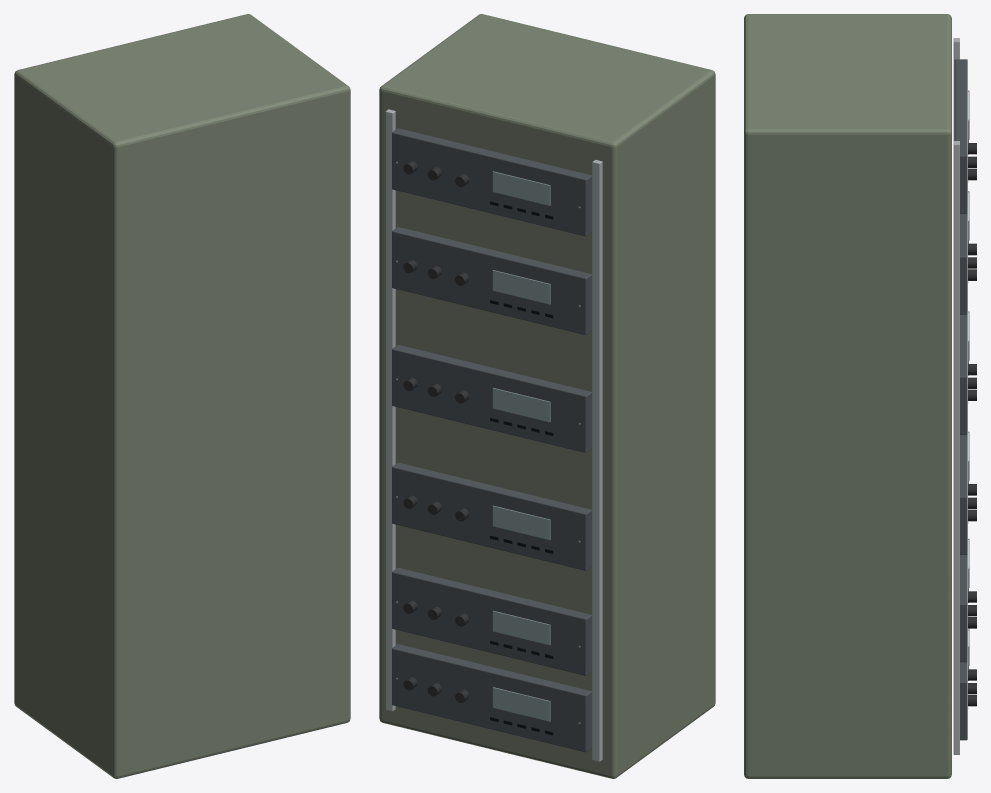
File: radio_rack.glb
3 renders of one model, left to right at view 1: azimuth 30°, elevation 25°; view 2: azimuth 150°, elevation 25°; view 3: azimuth 270°, elevation 25°, orthographic. The views are drawn at different scales.
Parts seen in each view (by area): view 1: radio_rack; view 2: radio_rack; view 3: radio_rack.
Part boxes in pixels (box(x1,y1,x2,y2)): radio_rack: box(14, 14, 350, 778); radio_rack: box(379, 14, 715, 778); radio_rack: box(744, 14, 976, 778).
Size of the model in its own units: 0.78 by 2 by 0.65.
